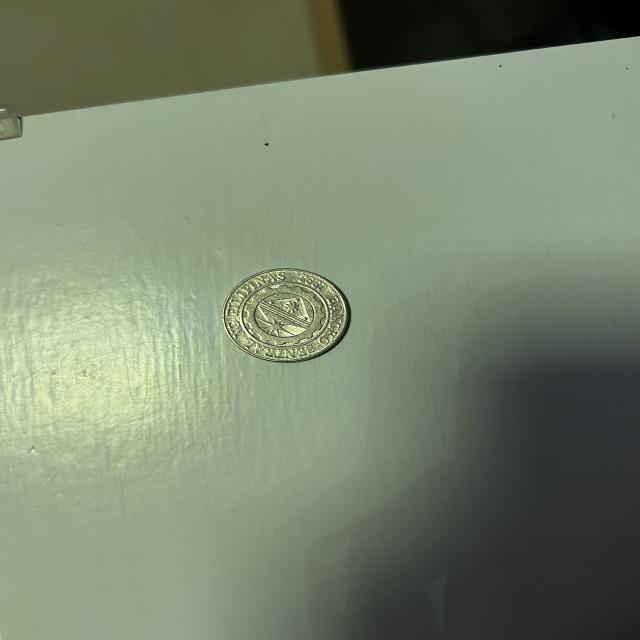1_Old_Back: (231, 280, 334, 346)
